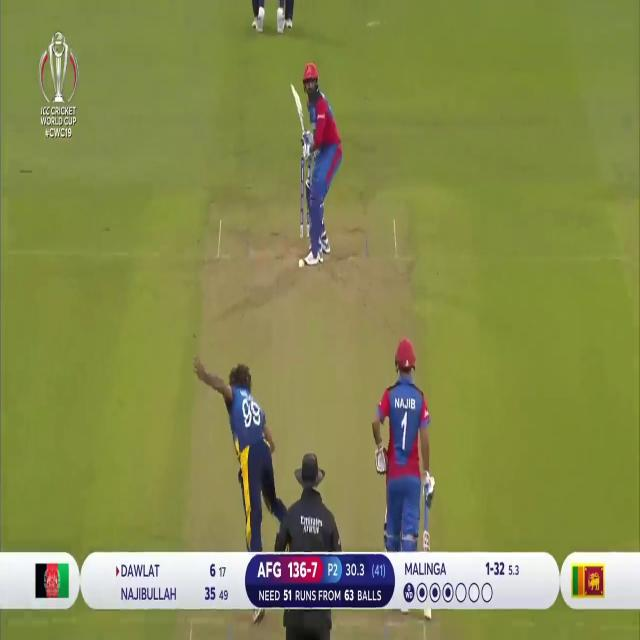ball: (298, 257, 306, 268)
